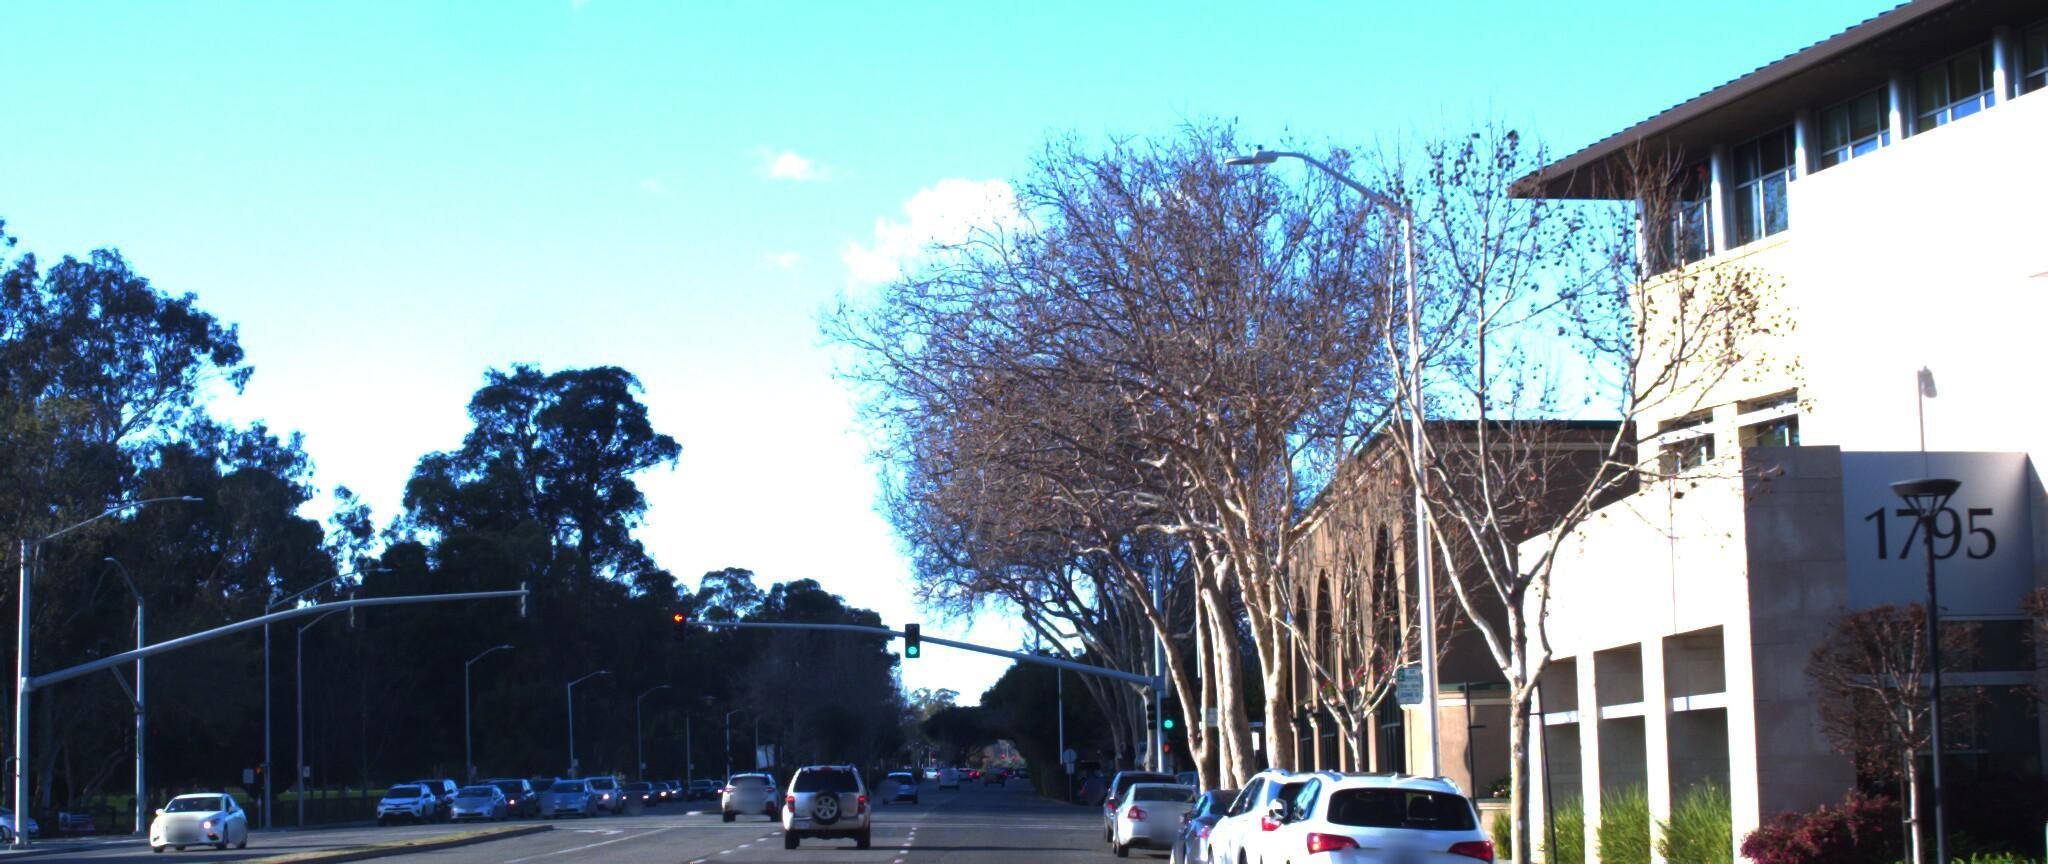car: (1185, 736, 1429, 864), (1238, 748, 1506, 864), (1159, 765, 1344, 864), (758, 748, 875, 837), (1104, 766, 1213, 850), (144, 778, 249, 841)
